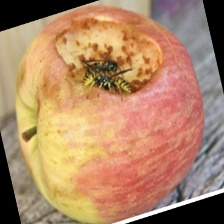apple: (18, 32, 177, 191)
